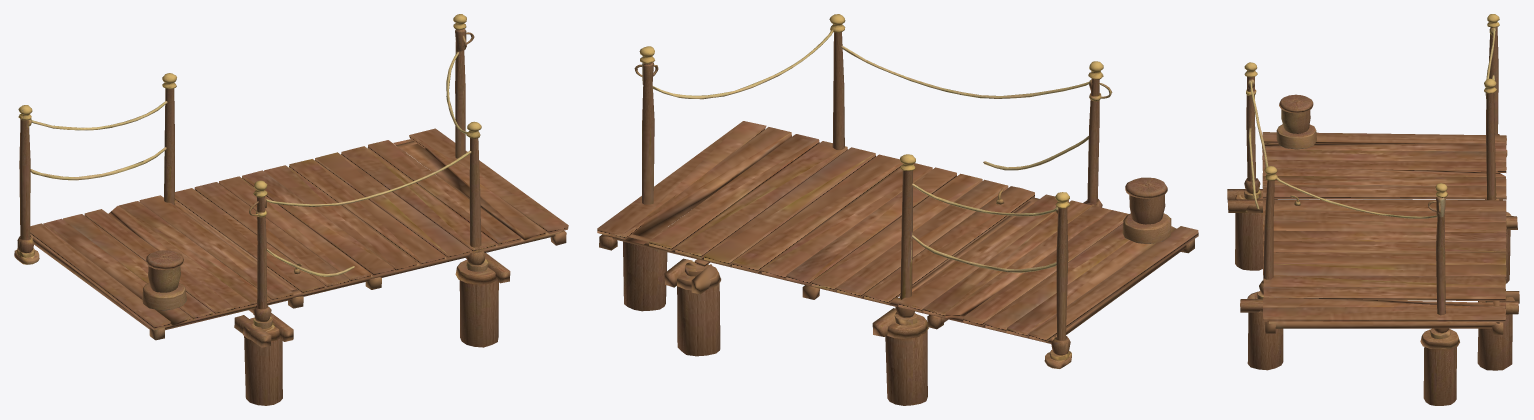
The model's file is jetty.glb.
3 views of the same model, side by side, from view 1: azimuth 30°, elevation 25°; view 2: azimuth 150°, elevation 25°; view 3: azimuth 270°, elevation 25° (orthographic). The views are drawn at different scales.
Parts seen in each view (by area): view 1: jetty; view 2: jetty; view 3: jetty.
Part boxes in pixels (x1=…): jetty: x1=14, y1=14, x2=568, y2=405; jetty: x1=597, y1=14, x2=1198, y2=405; jetty: x1=1227, y1=14, x2=1519, y2=405.
Size of the model in its own units: 8 by 4.18 by 5.18.
1 material, 1 textured.
